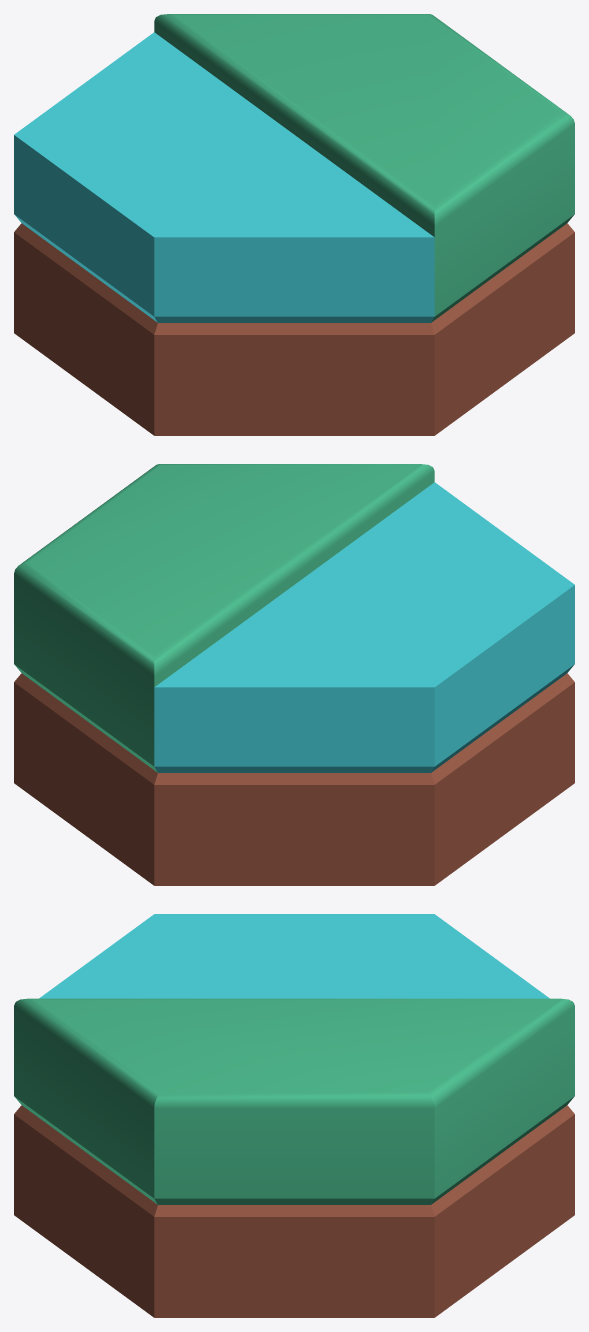
File: hex_forest_waterB_detail.glb
3 views of the same model, one above another, from view 1: azimuth 30°, elevation 25°; view 2: azimuth 150°, elevation 25°; view 3: azimuth 270°, elevation 25° (orthographic).
Visible parts, largest first — view 1: hex_forest_waterB_detail; view 2: hex_forest_waterB_detail; view 3: hex_forest_waterB_detail.
Boxes of the visible parts, x1,y1,x2,y2 form: hex_forest_waterB_detail: (14, 14, 574, 435); hex_forest_waterB_detail: (14, 464, 574, 885); hex_forest_waterB_detail: (14, 914, 574, 1317).
Size of the model in its own units: 2 by 1 by 2.31.
